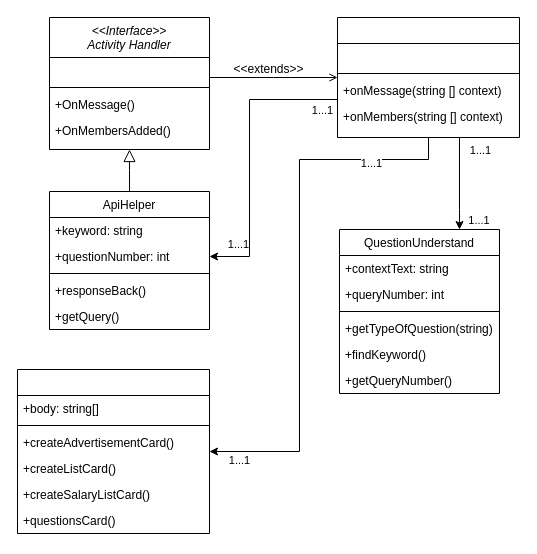
The diagram is 537 pixels wide and 554 high, and some of its shapes have lost their labels. The shapes that lost their labels are listed below. From the top down, each one's box as (x1, y1, x2, y2) in pixels, then its label:
(336, 16, 520, 138): Bot
(16, 368, 210, 534): CardBuilder
